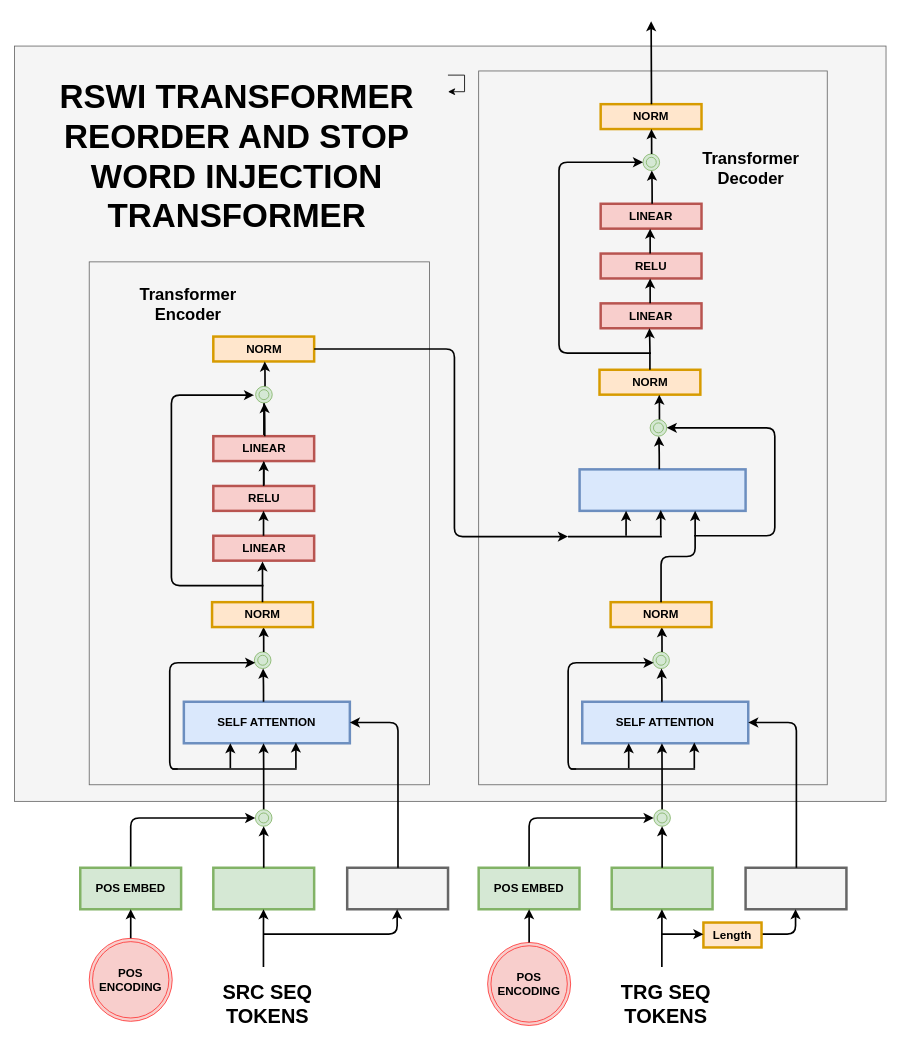
This 901x1043 diagram has some shape labels left out. Here are the shapes that lost their labels. From the top down, the box of each, then its label:
(578, 468, 746, 512): CROSS ATTENTION
(212, 866, 315, 910): SRC EMBED
(346, 866, 449, 910): SRC MASK
(610, 866, 713, 910): TRG EMBED
(744, 866, 847, 910): TRG MASK
